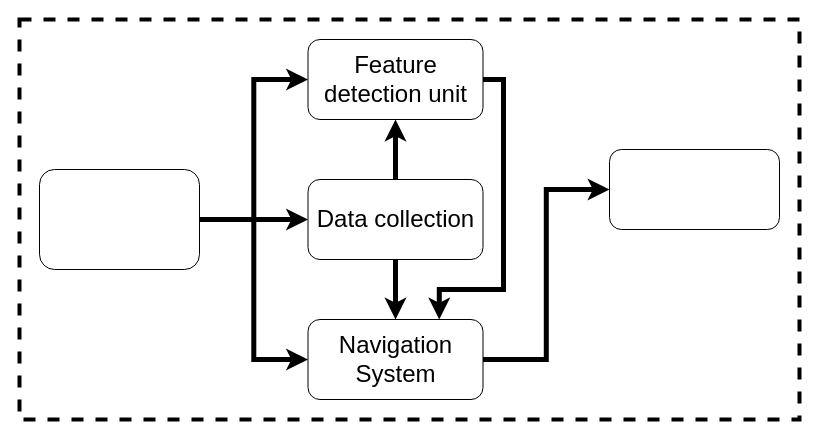
This 818x438 diagram has some shape labels left out. The box of each missing label's shape, as (x1, y1, x2, y2) in pixels:
Motors: (608, 148, 780, 230)
Power unit: (38, 168, 200, 270)
